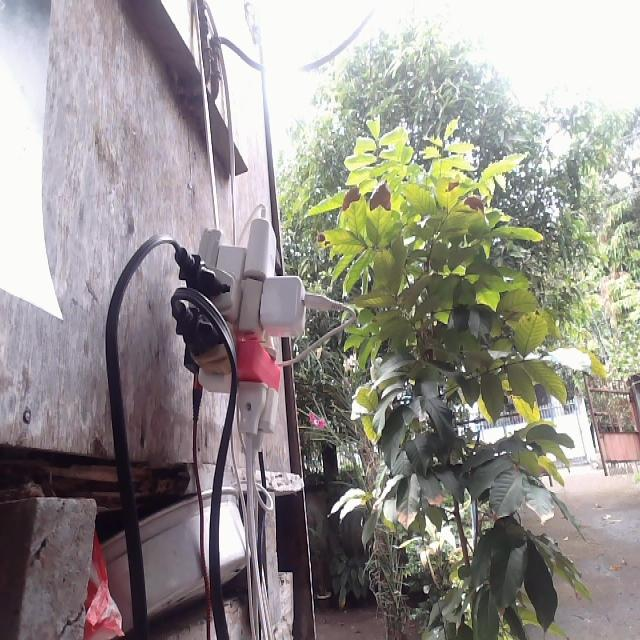-: (168, 203, 319, 445)
